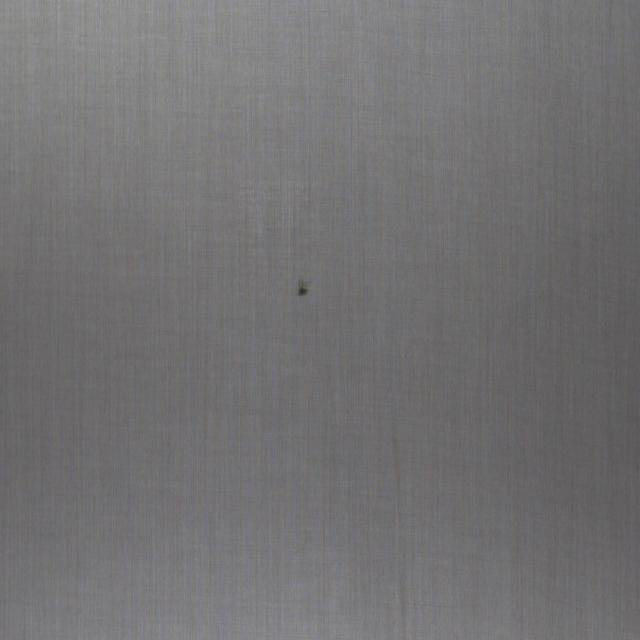dirty: (296, 277, 309, 298)
